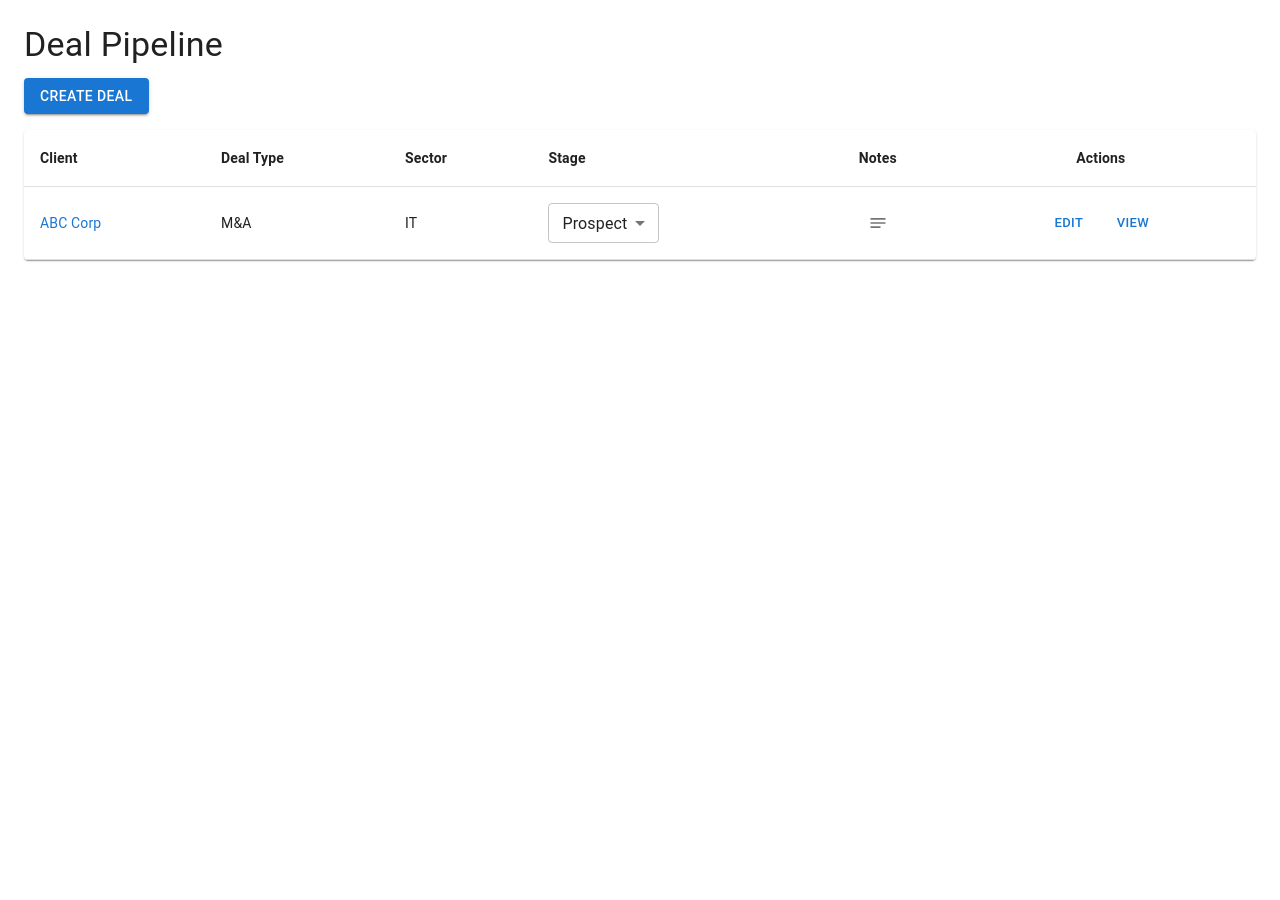
DealList Component (stable tests) › opens edit deal dialog
The width and height of the screenshot is (1280, 900).
Check: the text "ABC Corp" is shown, box [24, 187, 205, 260]
Click the button "Edit".
click(1069, 223)  # box [1037, 208, 1101, 239]
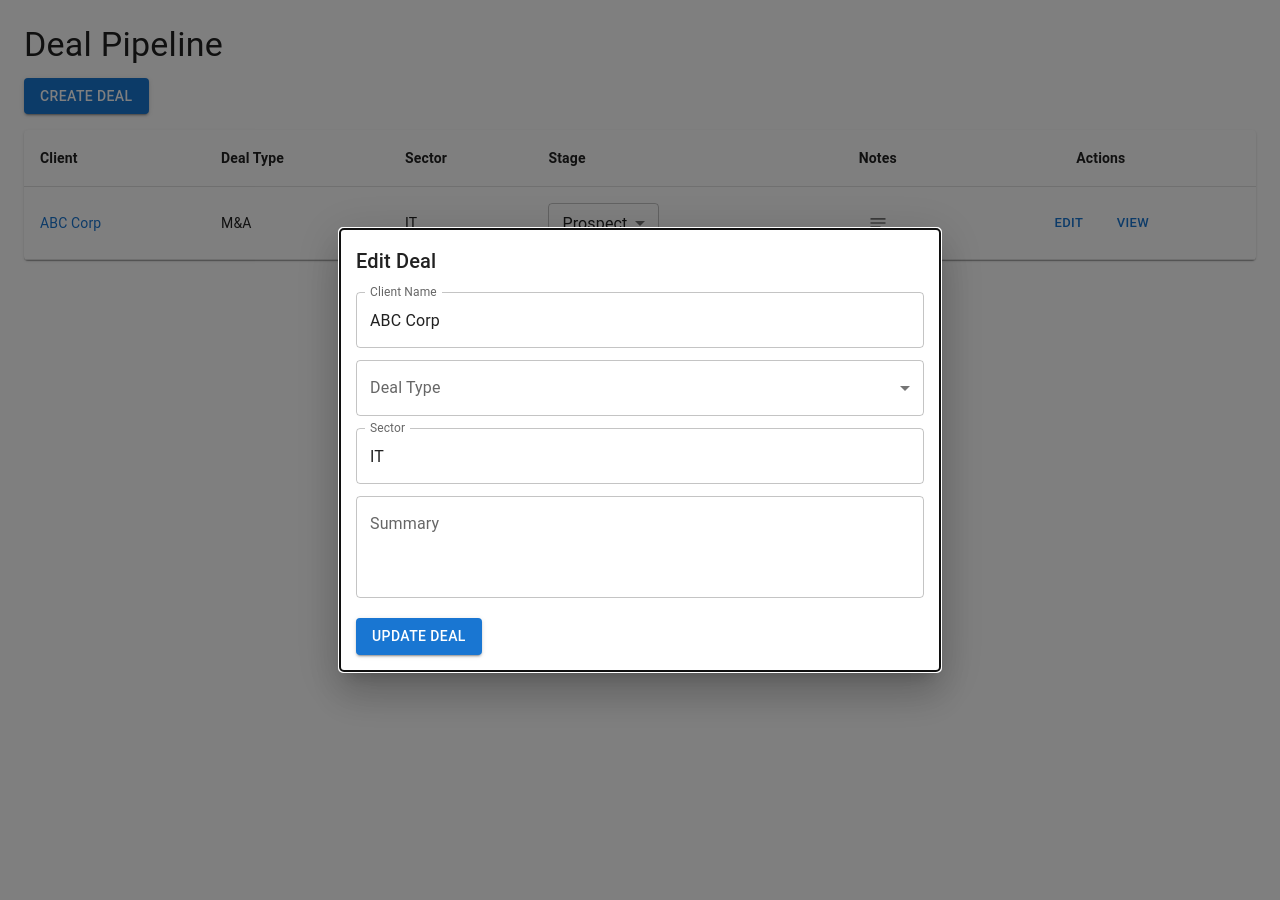
Check: the heading "Edit Deal" is shown, box [356, 249, 436, 273]
